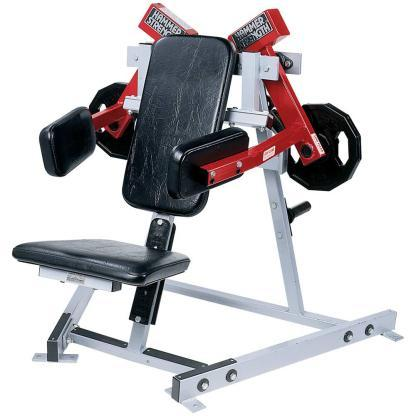lateral raises machine: (13, 3, 405, 411)
